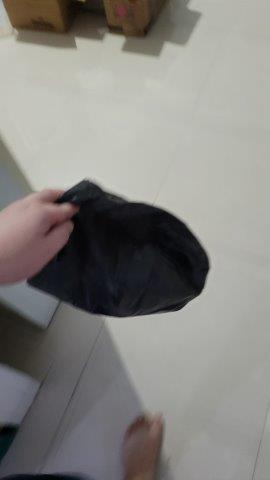plastik: (24, 176, 211, 315)
